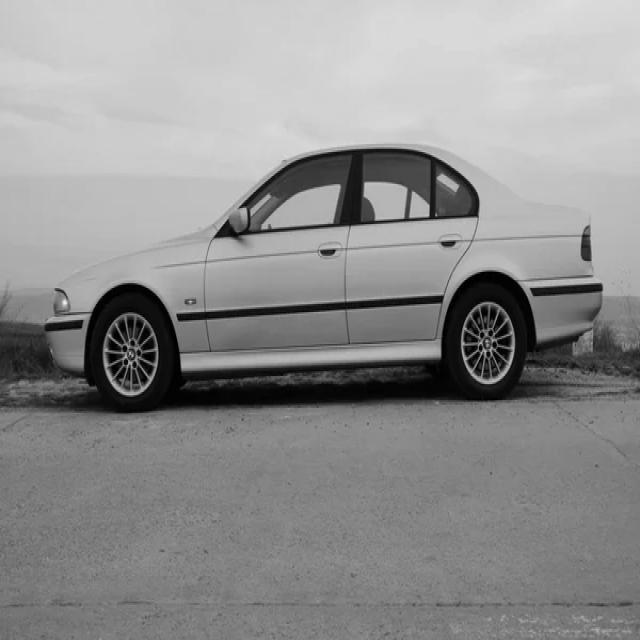Car: (45, 146, 604, 410)
